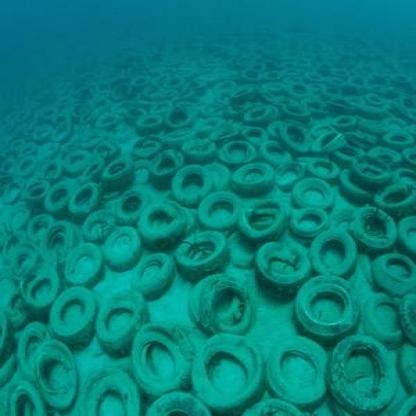tire: (190, 331, 286, 415), (158, 219, 257, 281), (291, 264, 362, 344), (122, 318, 196, 388), (48, 283, 107, 342), (134, 200, 197, 252), (230, 148, 288, 200), (168, 159, 223, 212), (101, 160, 138, 190)
